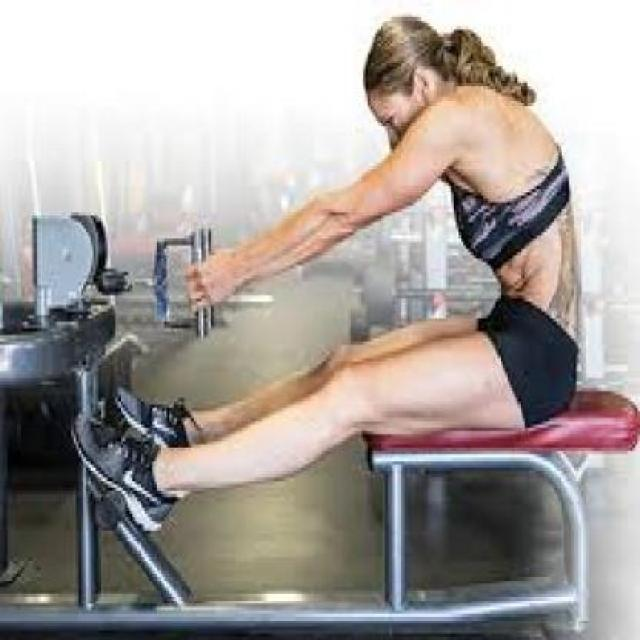Seated Cable Rows: (3, 15, 635, 640)
